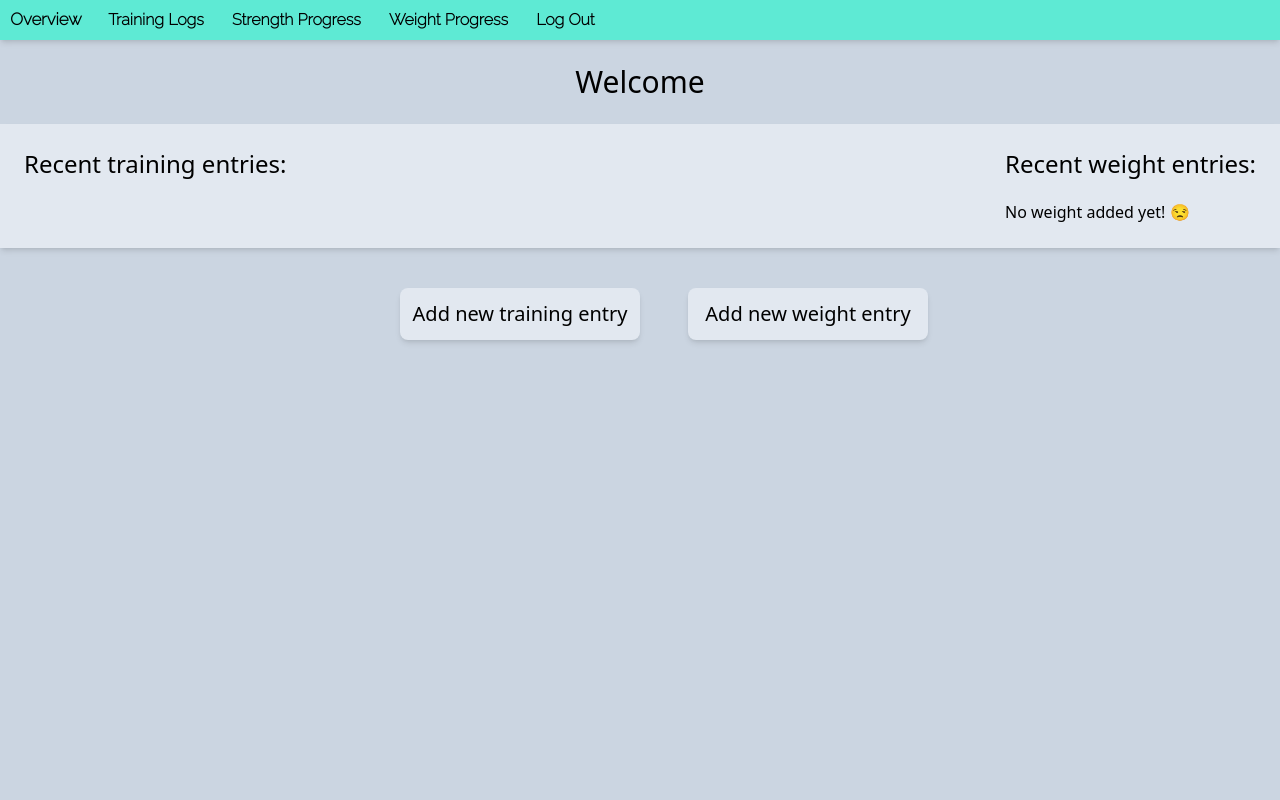
When already logged in › Creates a new training entry
Click the heading "Add new training entry" at (520,314), box [404, 292, 636, 336]
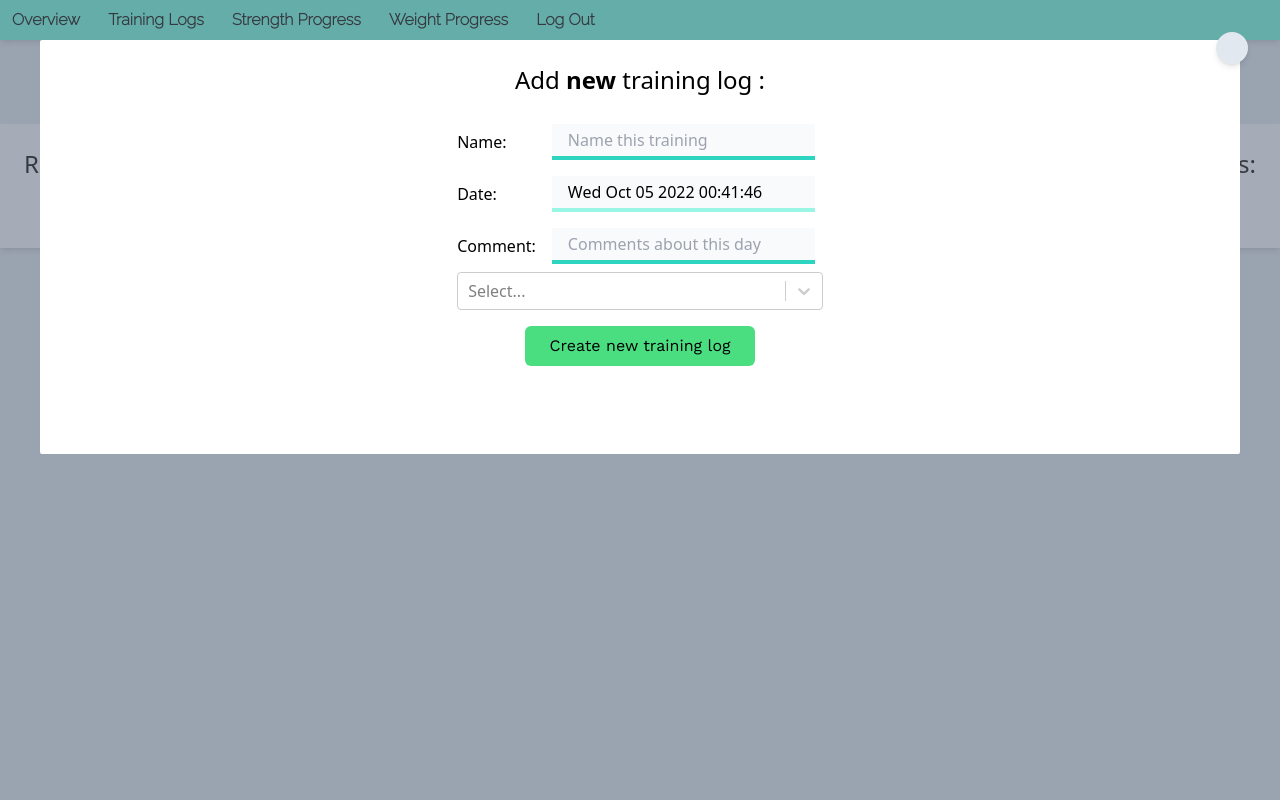
Click the element with id "add-training-muscles" at (640,291), box [457, 272, 823, 310]
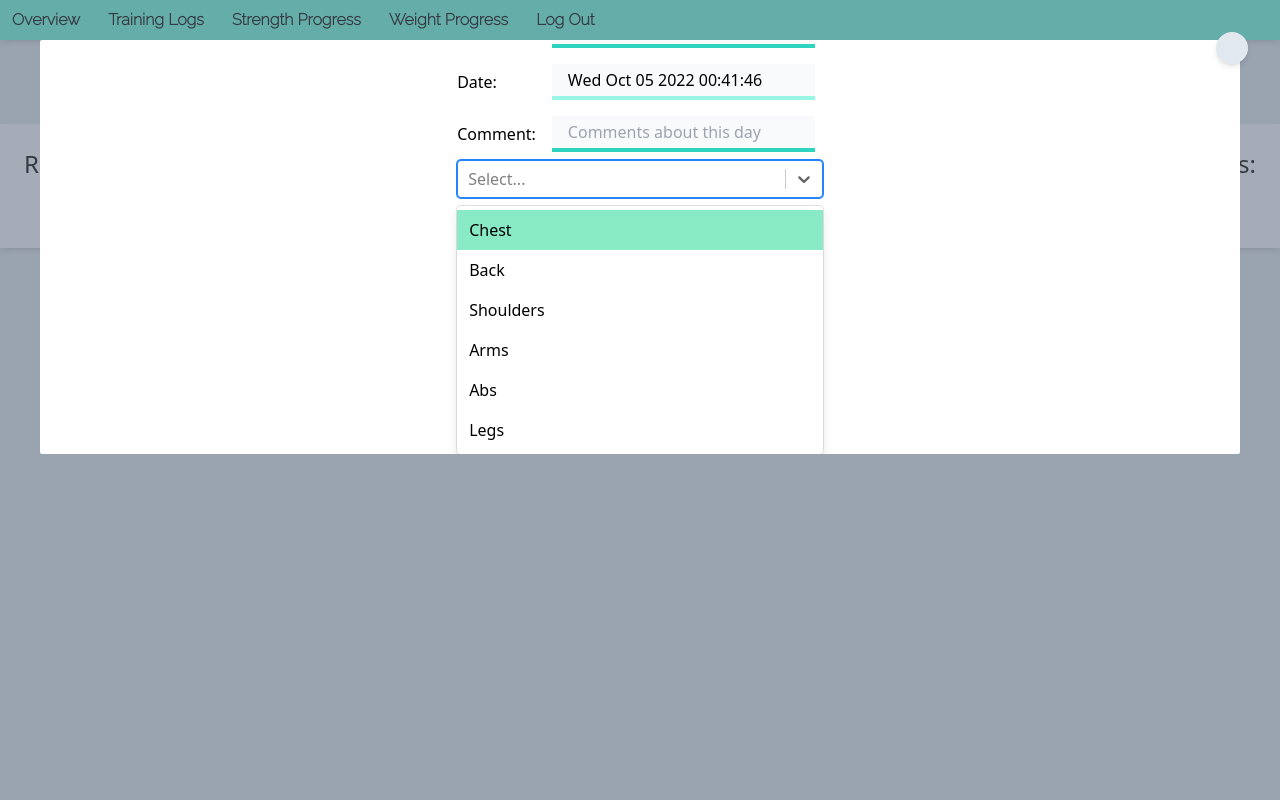
Click the option "Chest" at (490,230), box [457, 210, 823, 250]
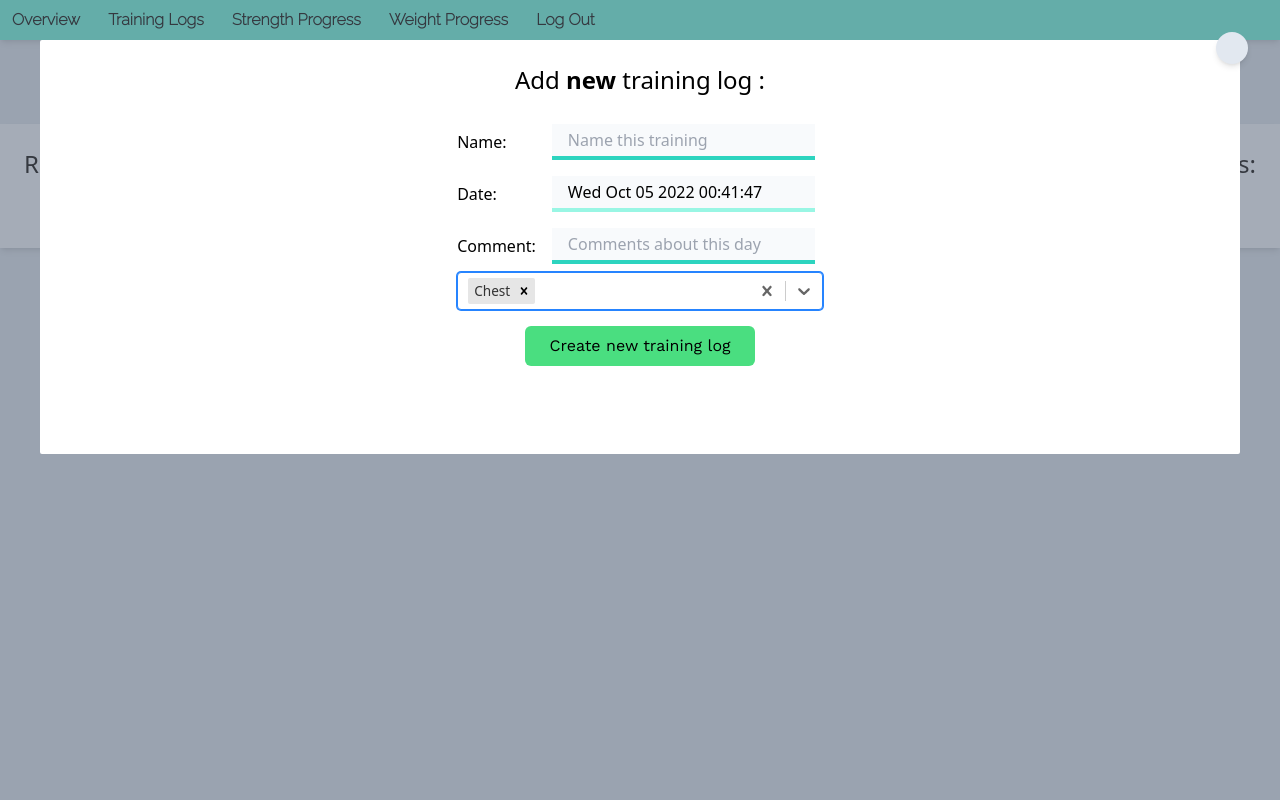
Click the button with id "submit-training" at (641,346), box [526, 326, 755, 366]
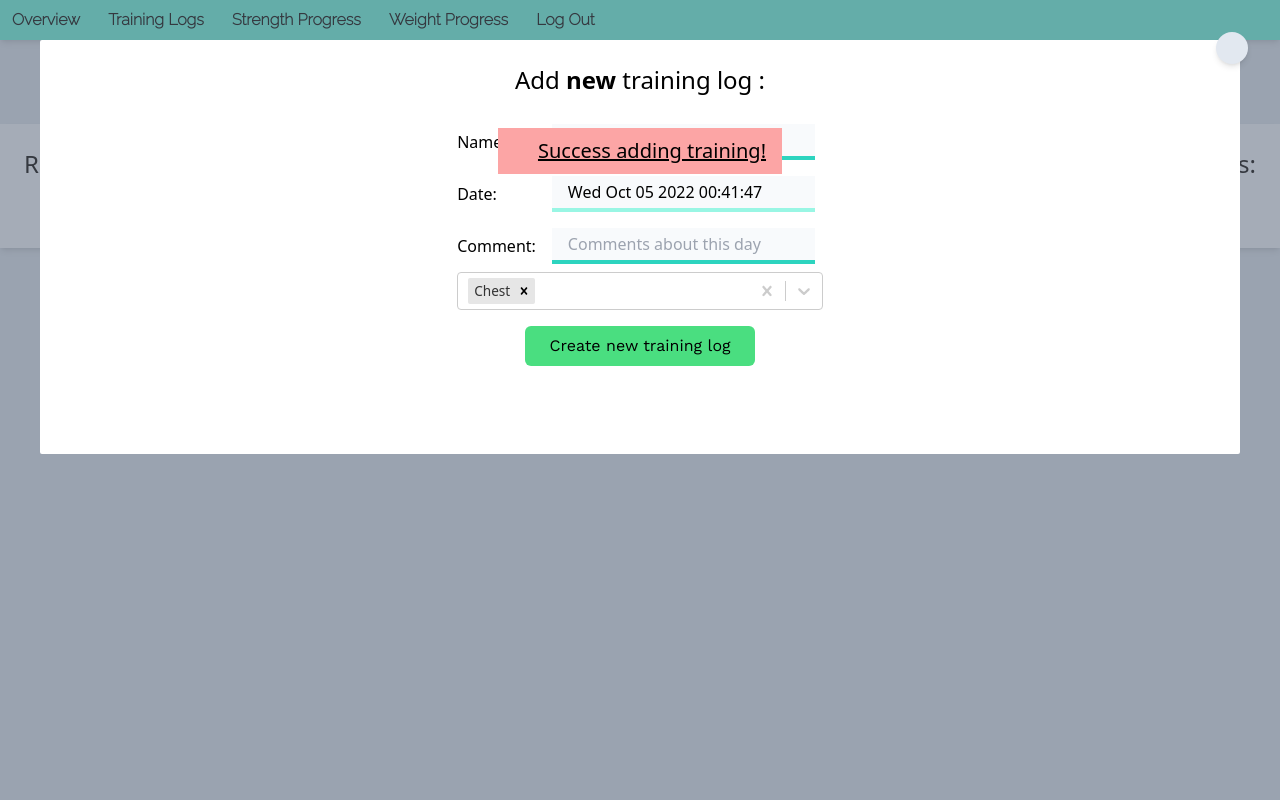
Expected: the text "Success" is shown, [538, 137, 766, 164]
